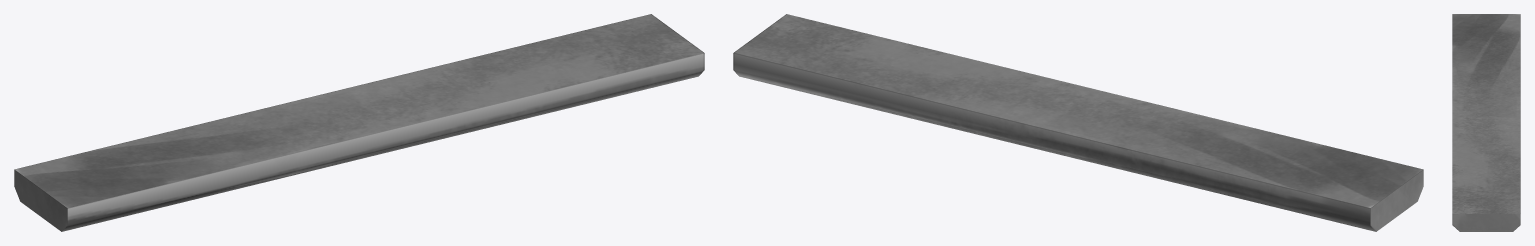
Rendered from Light_Asset.fbx.
3 renders of one model, left to right at view 1: azimuth 30°, elevation 25°; view 2: azimuth 150°, elevation 25°; view 3: azimuth 270°, elevation 25°, orthographic. The views are drawn at different scales.
Visible parts, largest first — view 1: Light; view 2: Light; view 3: Light.
Part boxes in pixels (bbox=[...]): Light: bbox=[14, 14, 704, 231]; Light: bbox=[733, 14, 1423, 231]; Light: bbox=[1452, 14, 1520, 231].
Size of the model in its own units: 160 by 23.14 by 6.71.
1 material, 1 textured.
